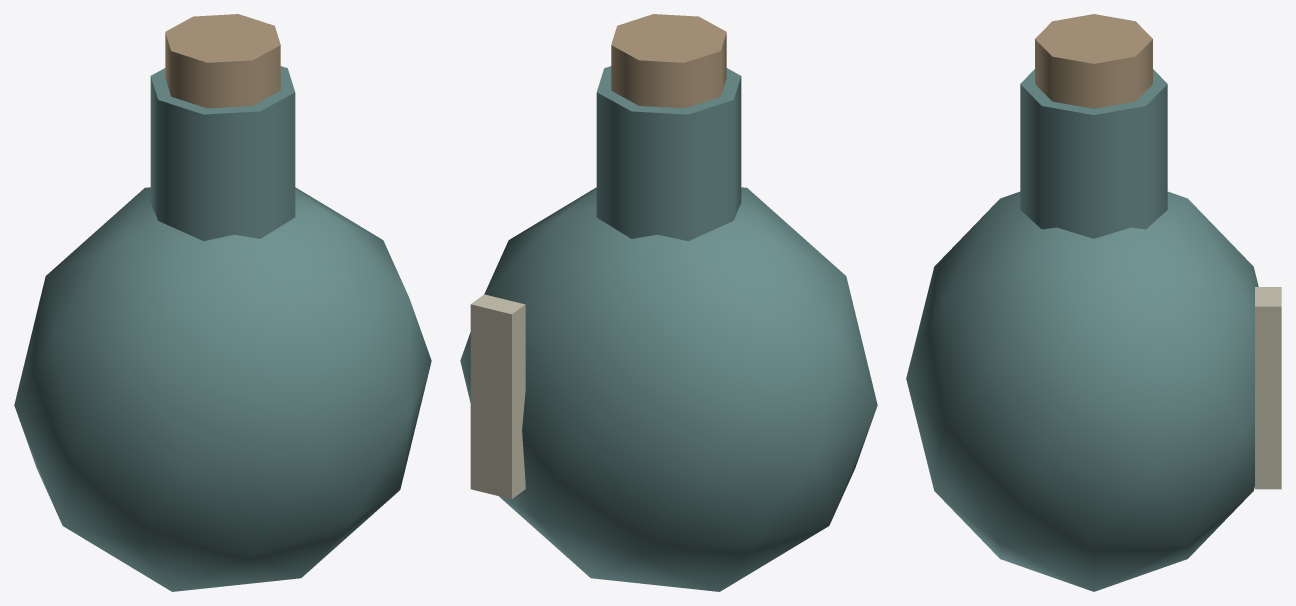
Rendered from spread-portable-liquidflask.fbx.
3 renders of one model, left to right at view 1: azimuth 30°, elevation 25°; view 2: azimuth 150°, elevation 25°; view 3: azimuth 270°, elevation 25°, orthographic.
Visible parts, largest first — view 1: spread-portable-liquidflask__Geometry; view 2: spread-portable-liquidflask__Geometry; view 3: spread-portable-liquidflask__Geometry.
Part boxes in pixels (box(x1,y1,x2,y2)): spread-portable-liquidflask__Geometry: box(14, 14, 431, 591); spread-portable-liquidflask__Geometry: box(460, 14, 877, 591); spread-portable-liquidflask__Geometry: box(906, 14, 1281, 591).
Bounding box in the file's own units: 0.3043 × 0.4395 × 0.28.
